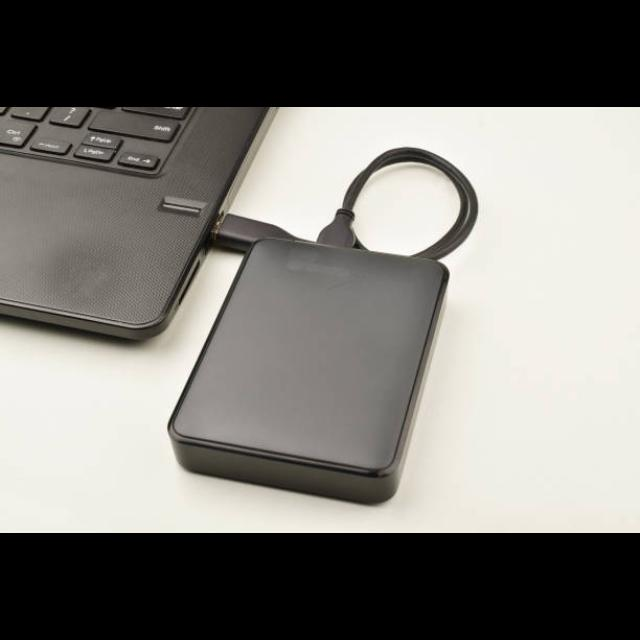HDD: (167, 239, 451, 508)
